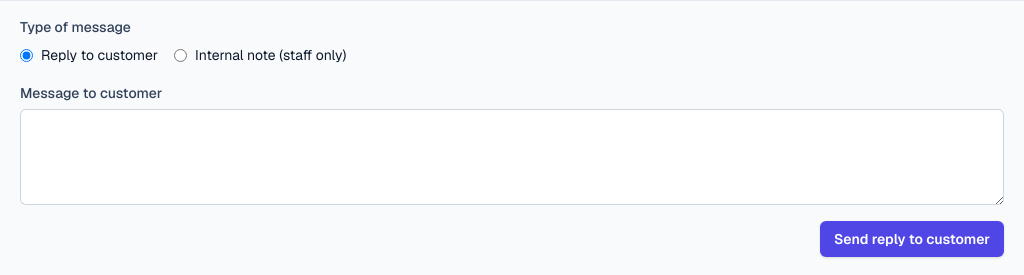
Test case: ReplyForm › makes clear whether staff are writing to the customer or an internal note
This screenshot has width=1024, height=275.
Expected: the button "Send reply to customer" is shown, x1=820 y1=221 x2=1004 y2=257
Click the radio button labelled "Internal note (staff only)".
click(180, 55)  # box x1=174 y1=48 x2=187 y2=62
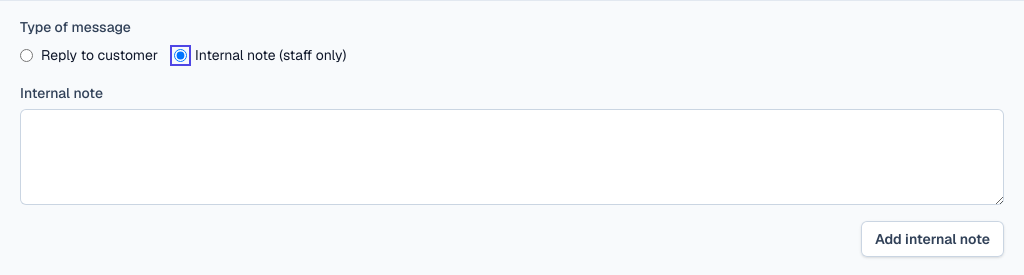
Expected: the text box labelled "Internal note" is shown, x1=20 y1=109 x2=1004 y2=205
Result: the button "Add internal note" is shown at x1=861 y1=221 x2=1004 y2=257
